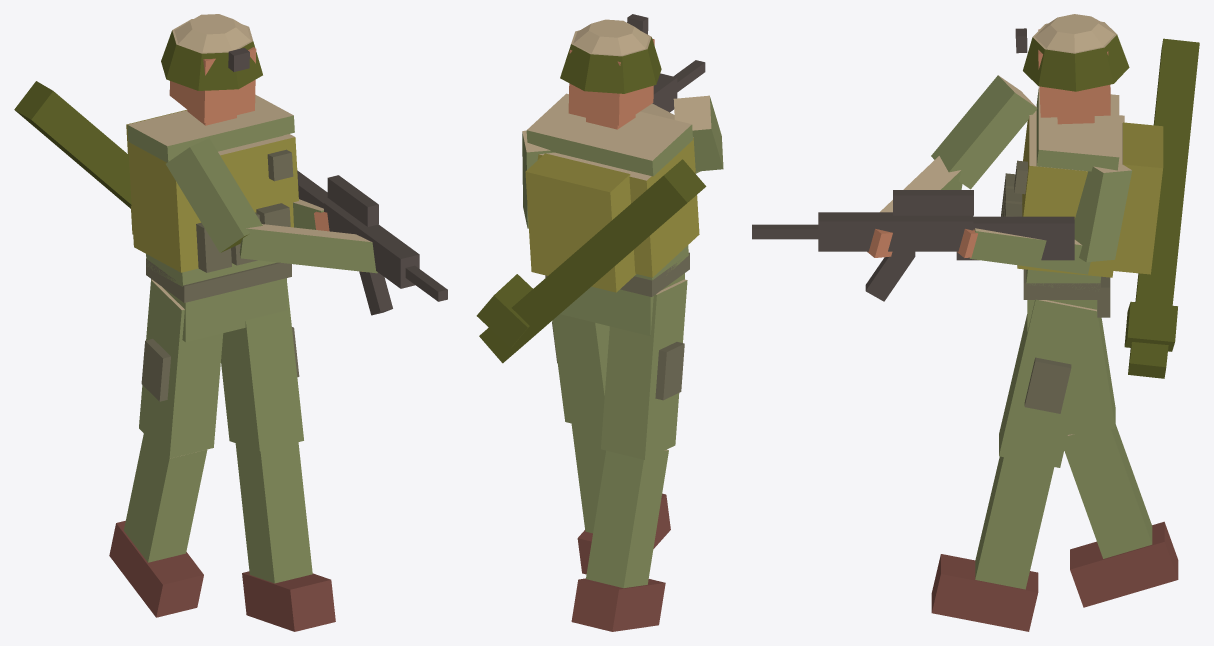
Rendered from SM_SoldadoArmado_v6_G36E_C90_Apuntando_LOD0.fbx.
The picture shows the model from 3 angles, left to right: view 1: azimuth 30°, elevation 25°; view 2: azimuth 150°, elevation 25°; view 3: azimuth 270°, elevation 25°; orthographic projection.
Parts seen in each view (by area): view 1: SM_bloques.soldado_armado_v6_LOD0; view 2: SM_bloques.soldado_armado_v6_LOD0; view 3: SM_bloques.soldado_armado_v6_LOD0.
Boxes of the visible parts, x1=… form: SM_bloques.soldado_armado_v6_LOD0: x1=14, y1=14, x2=447, y2=631; SM_bloques.soldado_armado_v6_LOD0: x1=476, y1=14, x2=723, y2=631; SM_bloques.soldado_armado_v6_LOD0: x1=752, y1=14, x2=1199, y2=631.
Bounding box in the file's own units: 0.7159 × 1.77 × 1.22.
